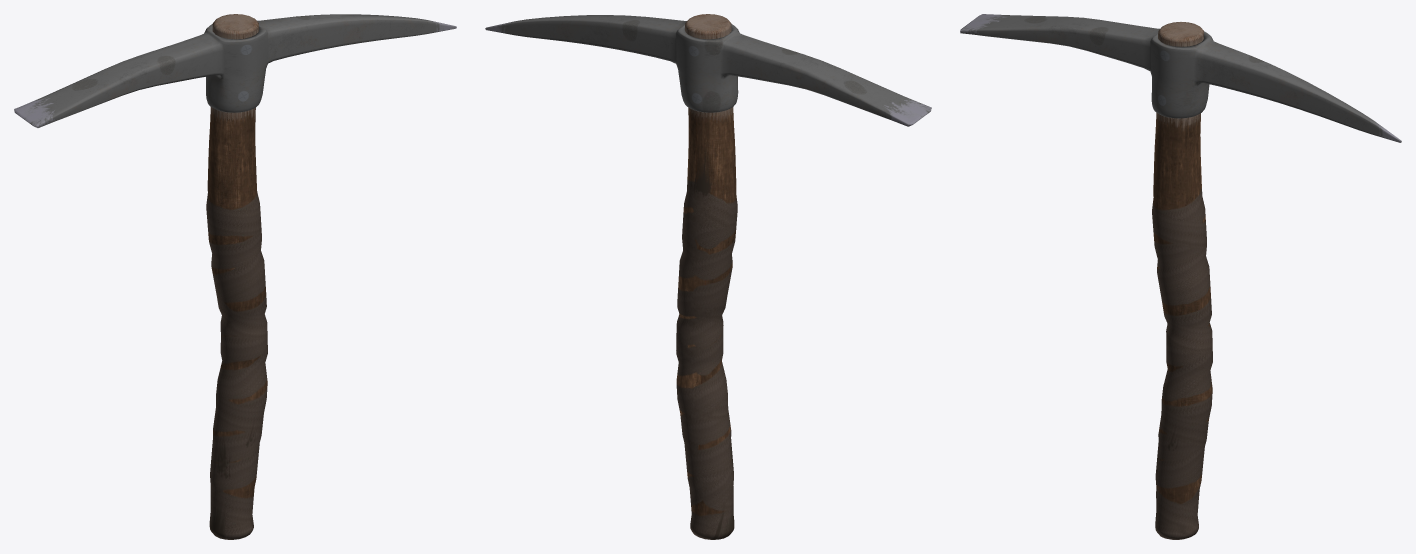
The model's file is w_pickaxe.glb.
The picture shows the model from 3 angles, left to right: view 1: azimuth 30°, elevation 25°; view 2: azimuth 150°, elevation 25°; view 3: azimuth 330°, elevation 25°; orthographic projection.
Visible parts, largest first — view 1: defaultMaterial.001, defaultMaterial; view 2: defaultMaterial.001, defaultMaterial; view 3: defaultMaterial.001, defaultMaterial.
Boxes of the visible parts, box(x1,y1,x2,y2) form: defaultMaterial.001: box(206, 14, 267, 539); defaultMaterial: box(14, 14, 456, 127); defaultMaterial.001: box(676, 14, 737, 539); defaultMaterial: box(485, 15, 931, 126); defaultMaterial.001: box(1152, 22, 1212, 539); defaultMaterial: box(960, 14, 1401, 142).
Bounding box in the file's own units: 1.78 × 2 × 0.2002.
2 materials, 2 textured.
